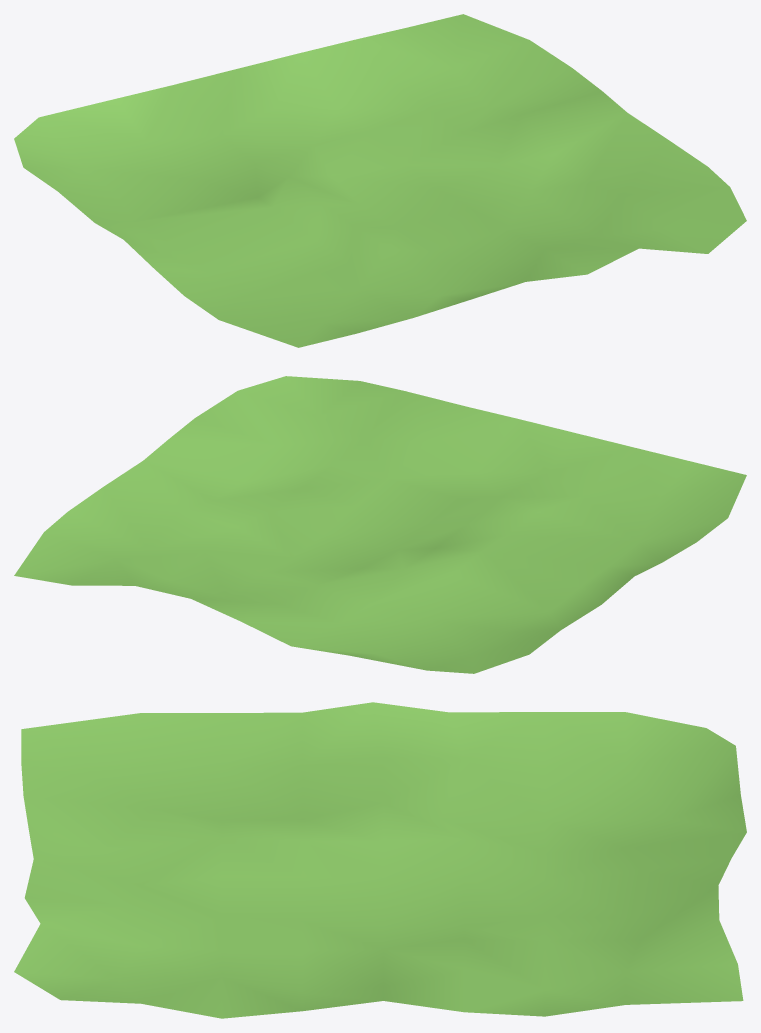
Rendered from FX_Md_Skyterrain_01.fbx.
3 views of the same model, one above another, from view 1: azimuth 30°, elevation 25°; view 2: azimuth 150°, elevation 25°; view 3: azimuth 270°, elevation 25° (orthographic). The views are drawn at different scales.
Parts seen in each view (by area): view 1: skyterrain; view 2: skyterrain; view 3: skyterrain.
Boxes of the visible parts, x1,y1,x2,y2 form: skyterrain: (14,14,746,347); skyterrain: (14,376,746,673); skyterrain: (14,702,746,1018).
Size of the model in its own units: 231173 by 14544 by 232733.
